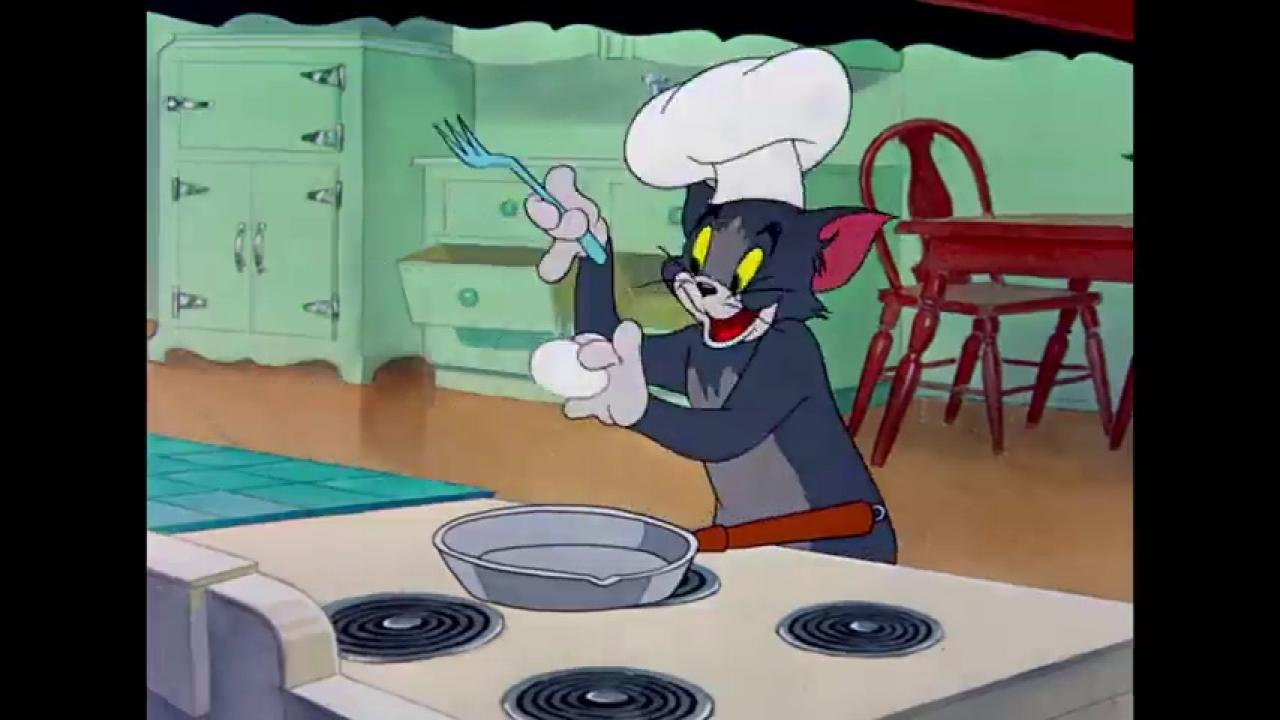Tom: (523, 161, 899, 570)
